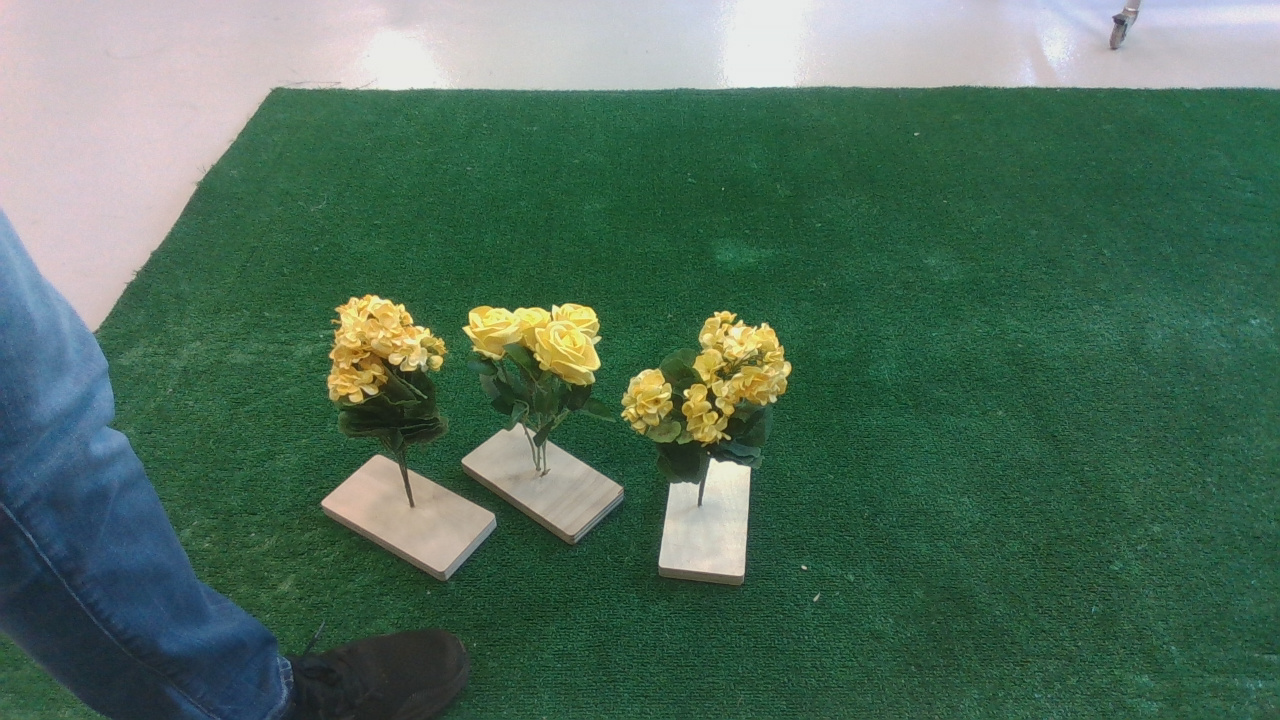geranium: (621, 307, 806, 466), (323, 284, 450, 438)
rose: (458, 289, 612, 430)
